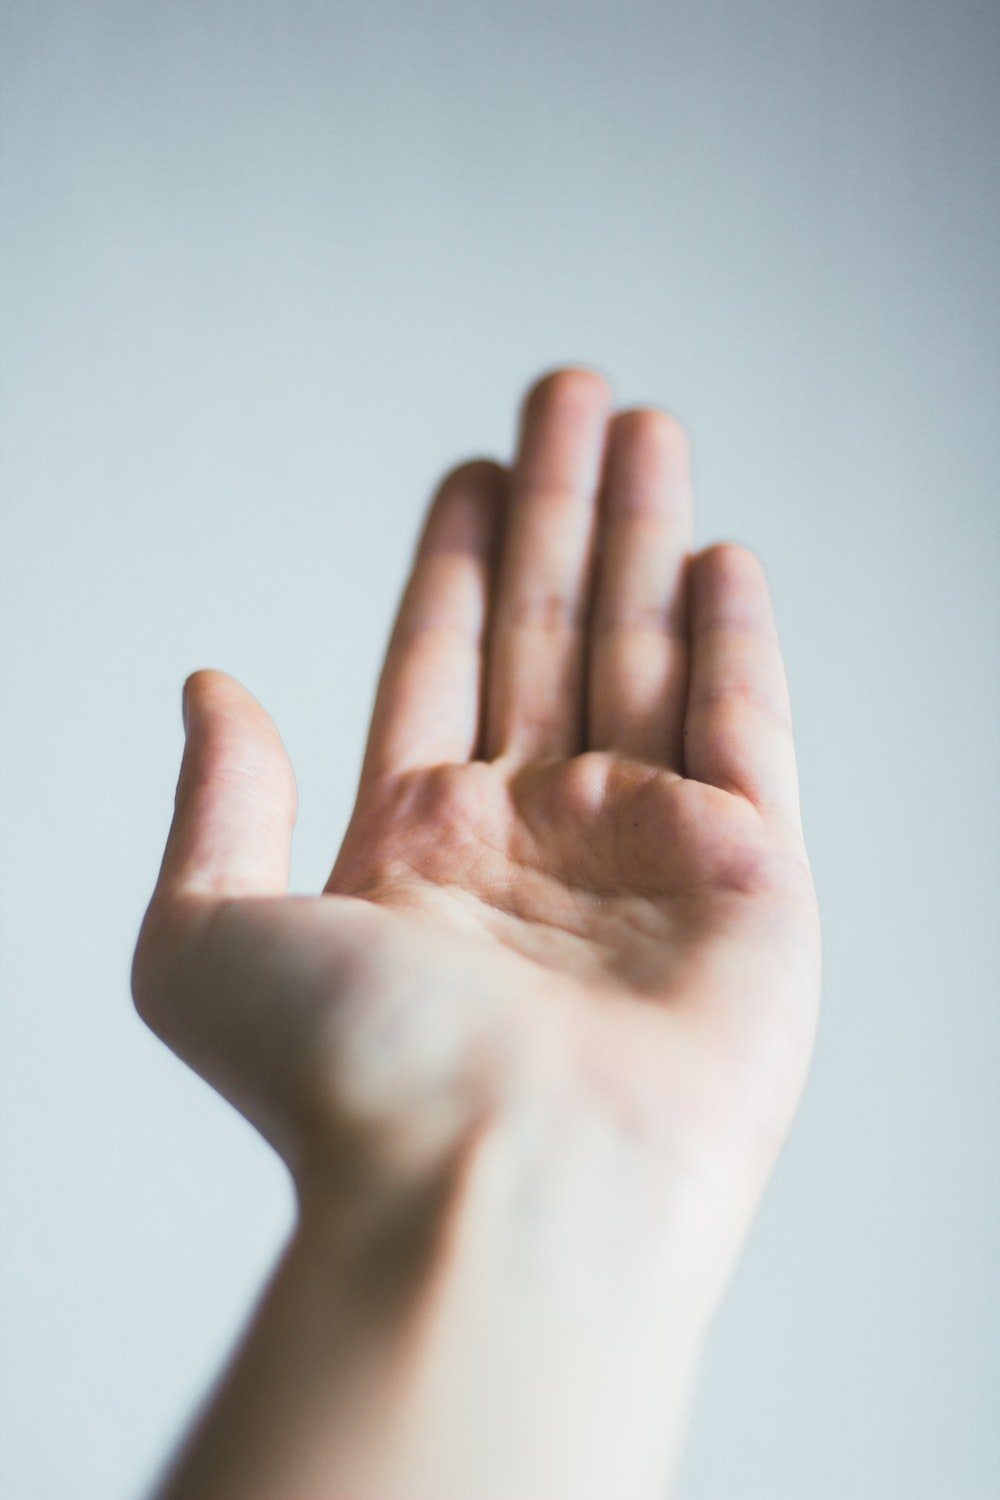palm: (276, 752, 887, 1300)
